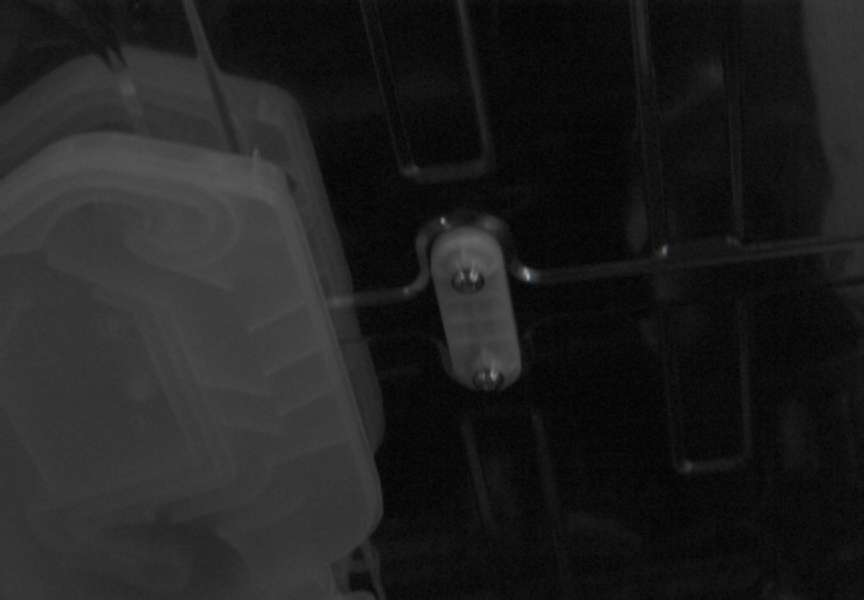screw: (451, 267, 485, 294), (473, 368, 504, 392)
